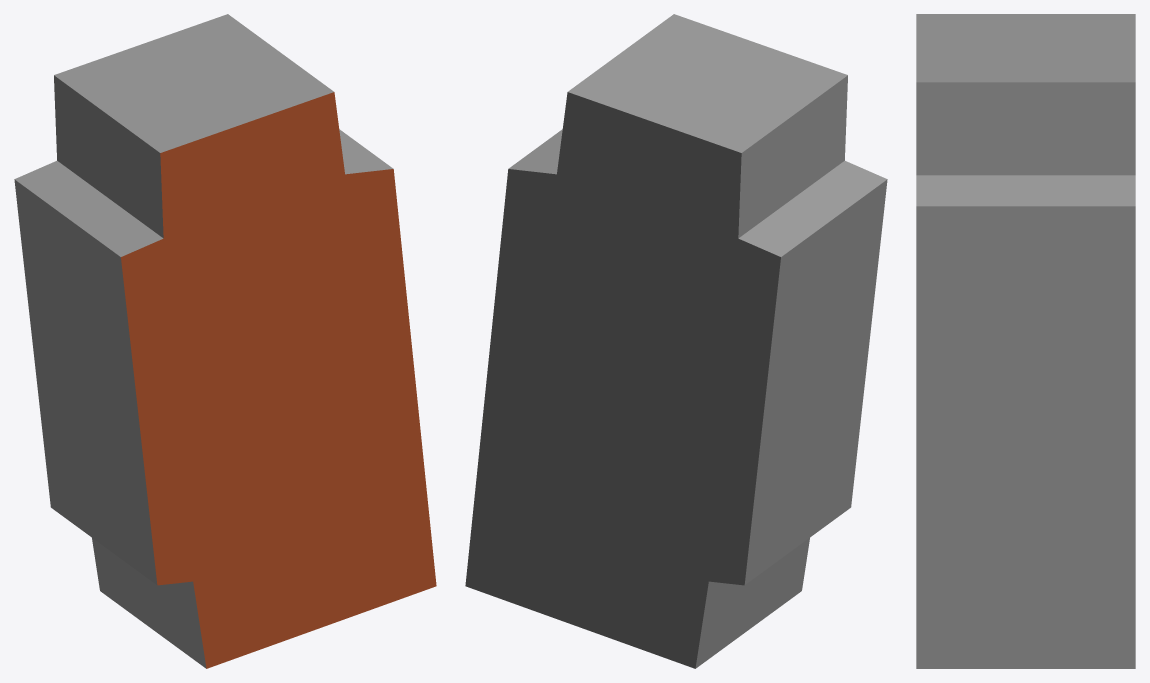
File: construction_4048_assumed_A_Casa_h6m.obj
The picture shows the model from 3 angles, left to right: view 1: azimuth 30°, elevation 25°; view 2: azimuth 150°, elevation 25°; view 3: azimuth 270°, elevation 25°; orthographic projection. The views are drawn at different scales.
Visible parts, largest first — view 1: construction_4048_assumed_A_Casa; view 2: construction_4048_assumed_A_Casa; view 3: construction_4048_assumed_A_Casa.
Boxes of the visible parts, x1,y1,x2,y2 form: construction_4048_assumed_A_Casa: (14,14,436,668); construction_4048_assumed_A_Casa: (465,14,887,668); construction_4048_assumed_A_Casa: (916,14,1135,668).
Size of the model in its own units: 10.27 by 16.96 by 6.
